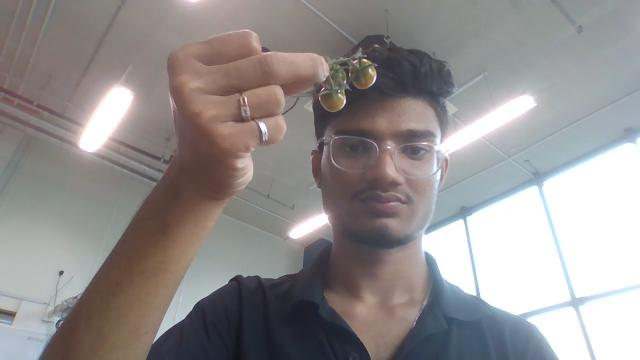Fully Grown: (350, 59, 377, 90), (318, 85, 347, 113)
